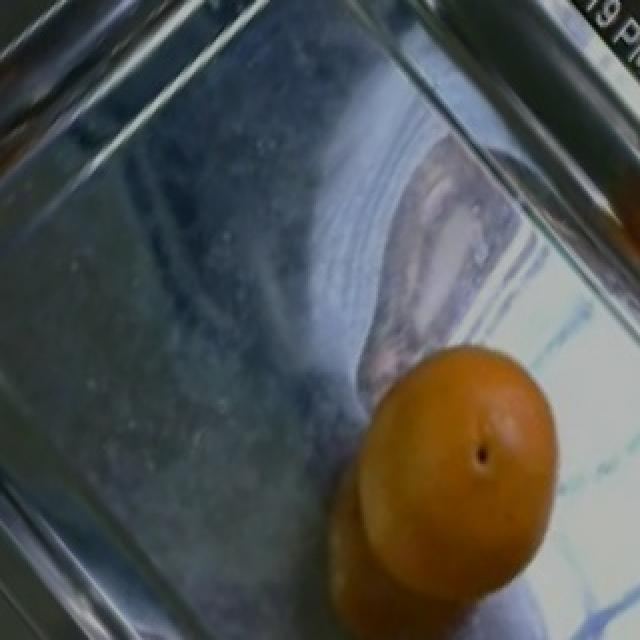Fruit: (308, 320, 586, 638)
